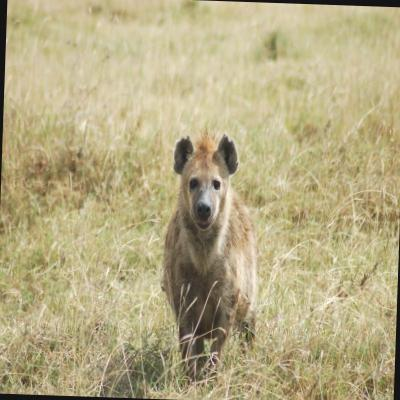hyenas: (120, 126, 282, 399)
